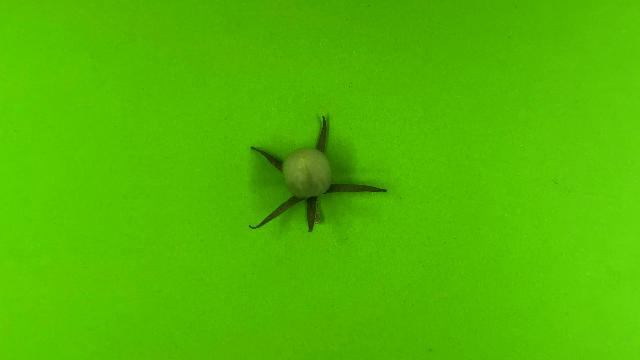Fruit Maturation: (280, 147, 333, 199)
